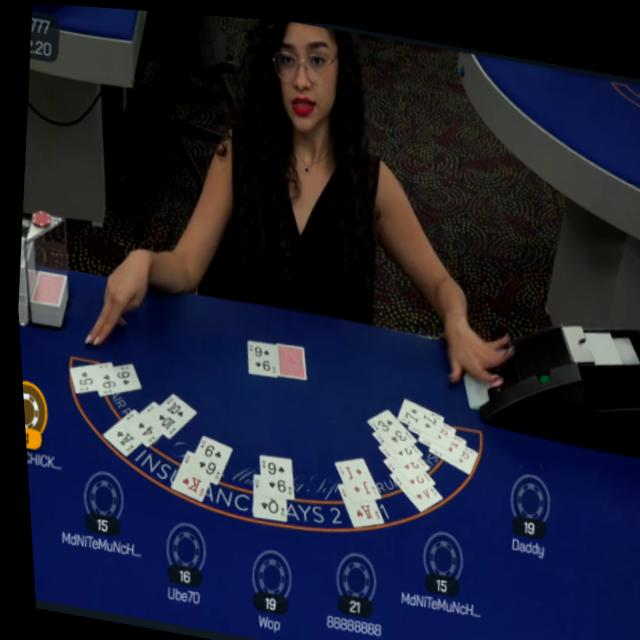Card-10: (145, 393, 190, 434)
Card-2: (366, 428, 417, 458), (377, 456, 429, 485)
Card-3: (362, 403, 411, 444), (373, 441, 423, 472)
Card-4: (125, 399, 156, 447)
Card-5: (65, 360, 108, 394)
Card-6: (185, 434, 226, 482), (423, 438, 472, 466), (402, 416, 450, 440)
Card-7: (393, 392, 438, 430)
Card-9: (254, 450, 287, 495), (92, 361, 135, 395), (243, 336, 272, 371)
Card-A: (331, 479, 378, 522), (97, 406, 136, 454), (384, 469, 437, 504), (413, 426, 460, 452)
Card-J: (330, 452, 373, 497)
Card-K: (164, 448, 203, 499)
Card-Q: (246, 468, 279, 514)
